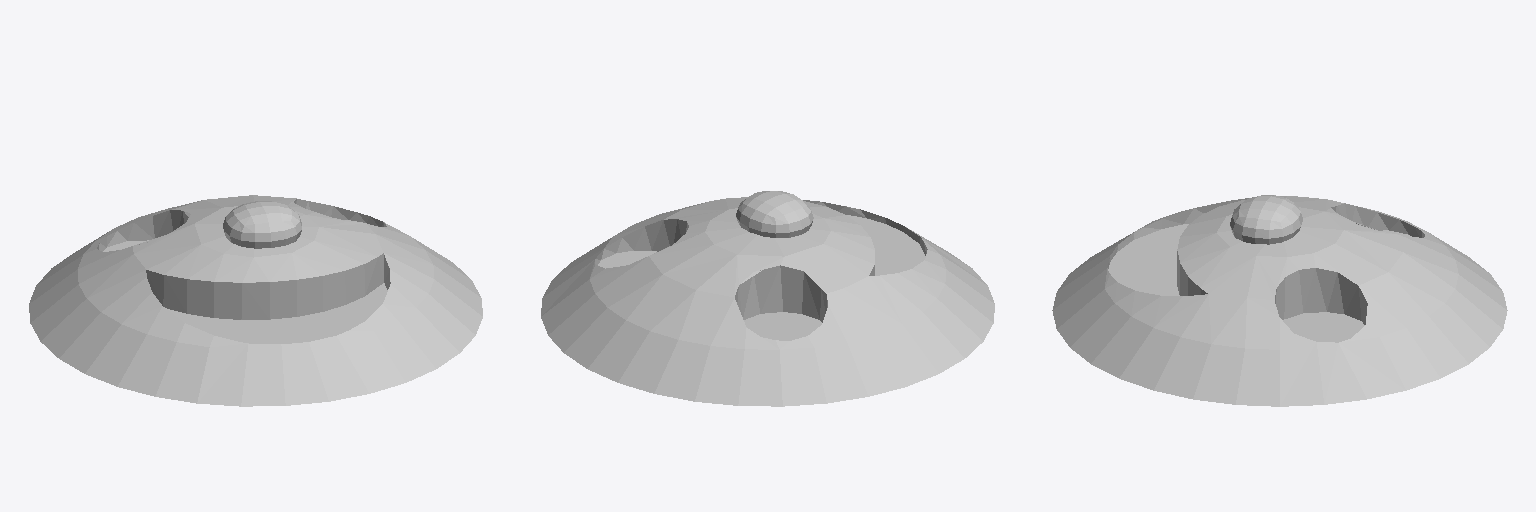
The model's file is Biscuit.obj.
3 views of the same model, side by side, from view 1: azimuth 30°, elevation 25°; view 2: azimuth 150°, elevation 25°; view 3: azimuth 270°, elevation 25° (orthographic).
Parts seen in each view (by area): view 1: Sphere, Cube; view 2: Sphere, Cube; view 3: Sphere, Cube.
Boxes of the visible parts, x1=… form: Sphere: x1=29, y1=195, x2=482, y2=406; Cube: x1=223, y1=201, x2=301, y2=248; Sphere: x1=541, y1=197, x2=994, y2=406; Cube: x1=736, y1=191, x2=813, y2=237; Sphere: x1=1052, y1=196, x2=1507, y2=406; Cube: x1=1230, y1=195, x2=1302, y2=244.
Size of the model in its own units: 3.96 by 1.05 by 3.96.